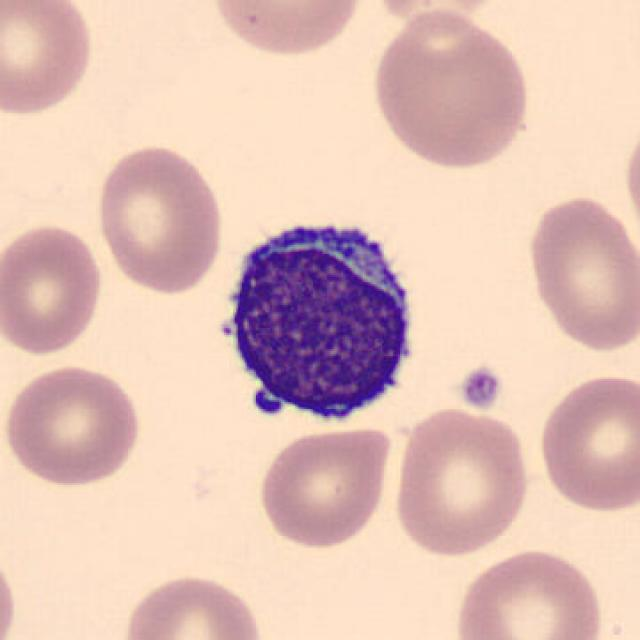Lymphocyte: (202, 203, 428, 435)
Platelets: (455, 363, 505, 413)
RBC: (366, 5, 535, 173), (389, 404, 534, 560), (90, 139, 228, 296), (0, 360, 146, 490), (523, 192, 638, 354), (254, 425, 395, 550), (534, 368, 638, 515), (450, 545, 608, 640), (0, 219, 107, 358), (0, 0, 98, 120), (117, 569, 265, 640), (206, 0, 366, 60), (364, 0, 511, 33), (620, 113, 640, 245), (0, 543, 21, 640)
